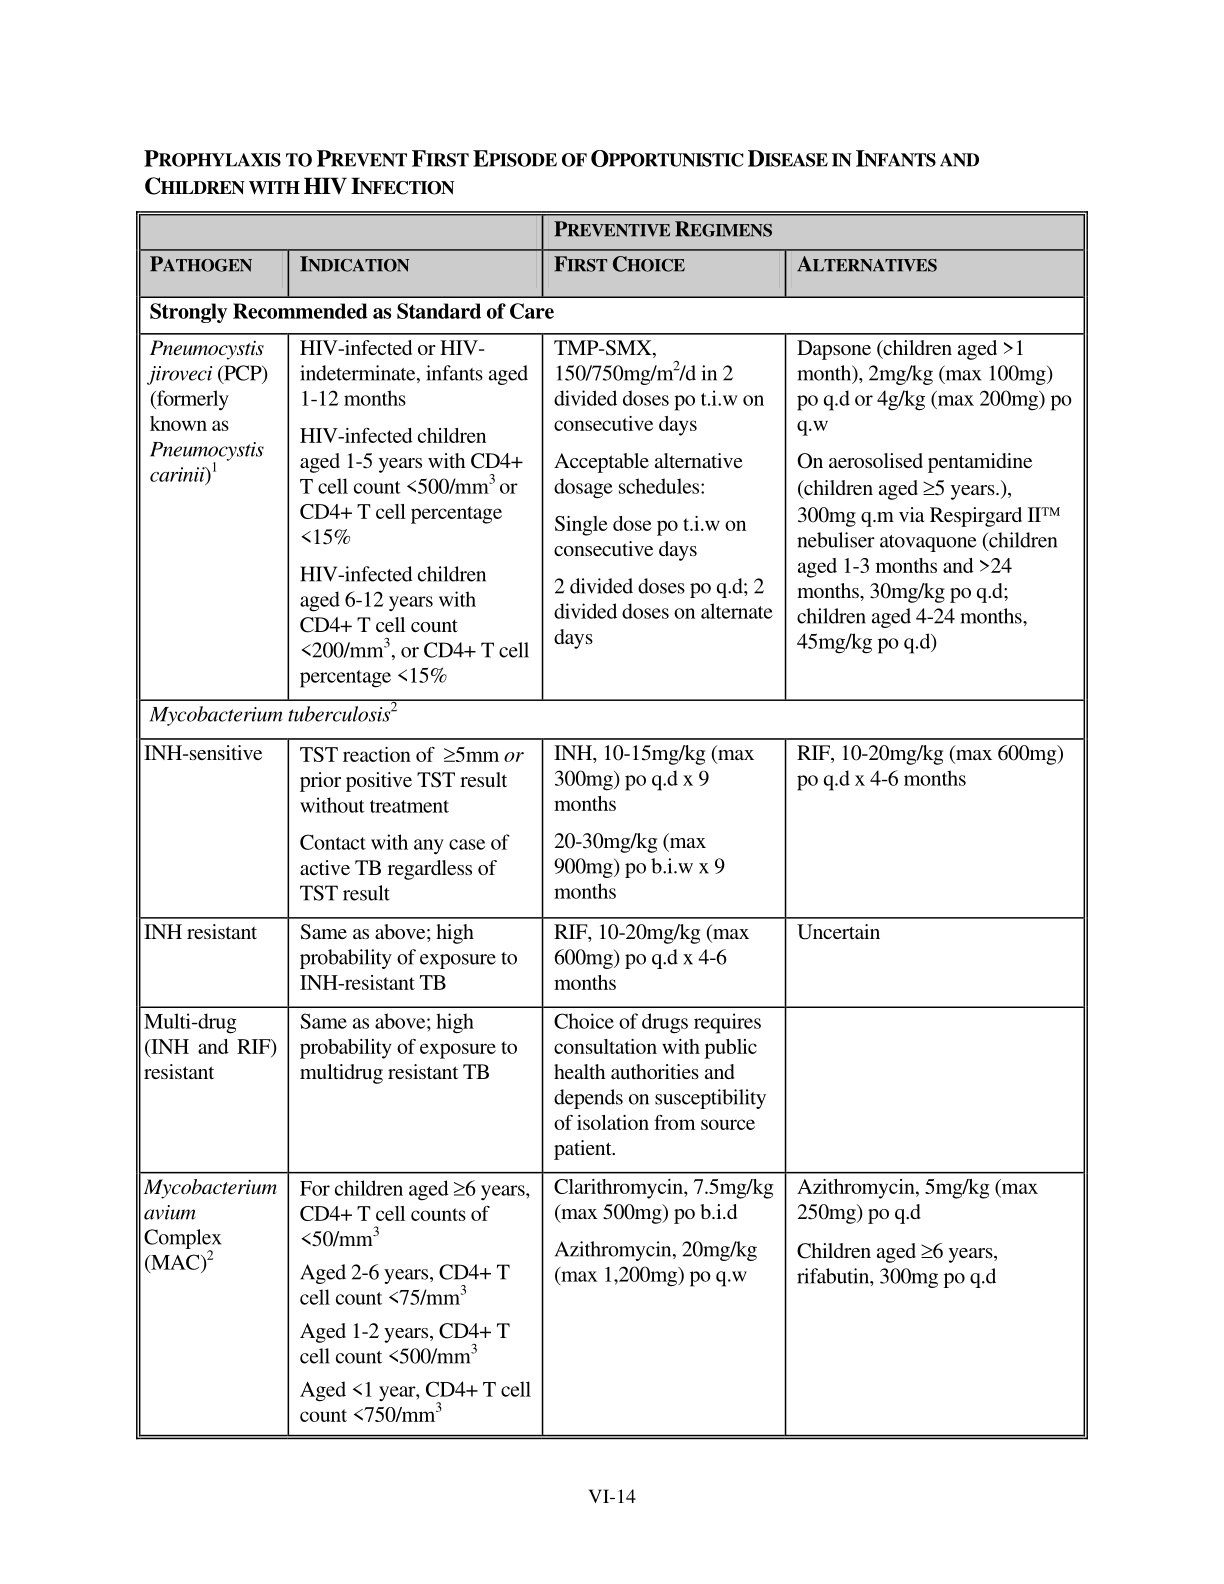partial_lined_merged_cells: (134, 210, 1092, 1443)
